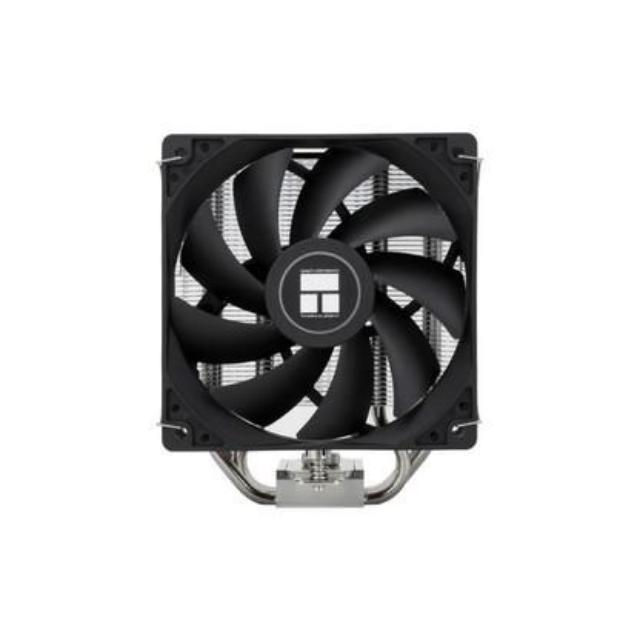CPU_Fan: (159, 132, 481, 506)
